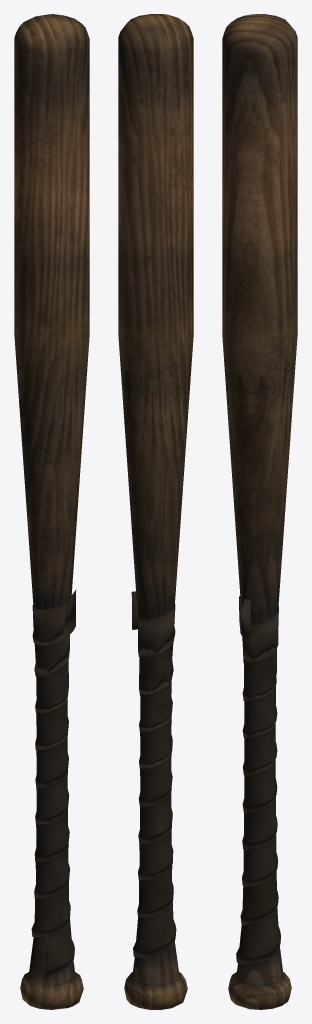
The model's file is baseball_bat.glb.
3 renders of one model, left to right at view 1: azimuth 30°, elevation 25°; view 2: azimuth 210°, elevation 25°; view 3: azimuth 270°, elevation 25°, orthographic.
Visible parts, largest first — view 1: baseball_bat; view 2: baseball_bat; view 3: baseball_bat.
Part boxes in pixels (bbox=[...]): baseball_bat: bbox=[14, 14, 89, 1009]; baseball_bat: bbox=[118, 14, 193, 1009]; baseball_bat: bbox=[222, 14, 297, 1009].
Bounding box in the file's own units: 0.0635 × 0.9132 × 0.0635.
Materials: 1 (1 with a texture image).
